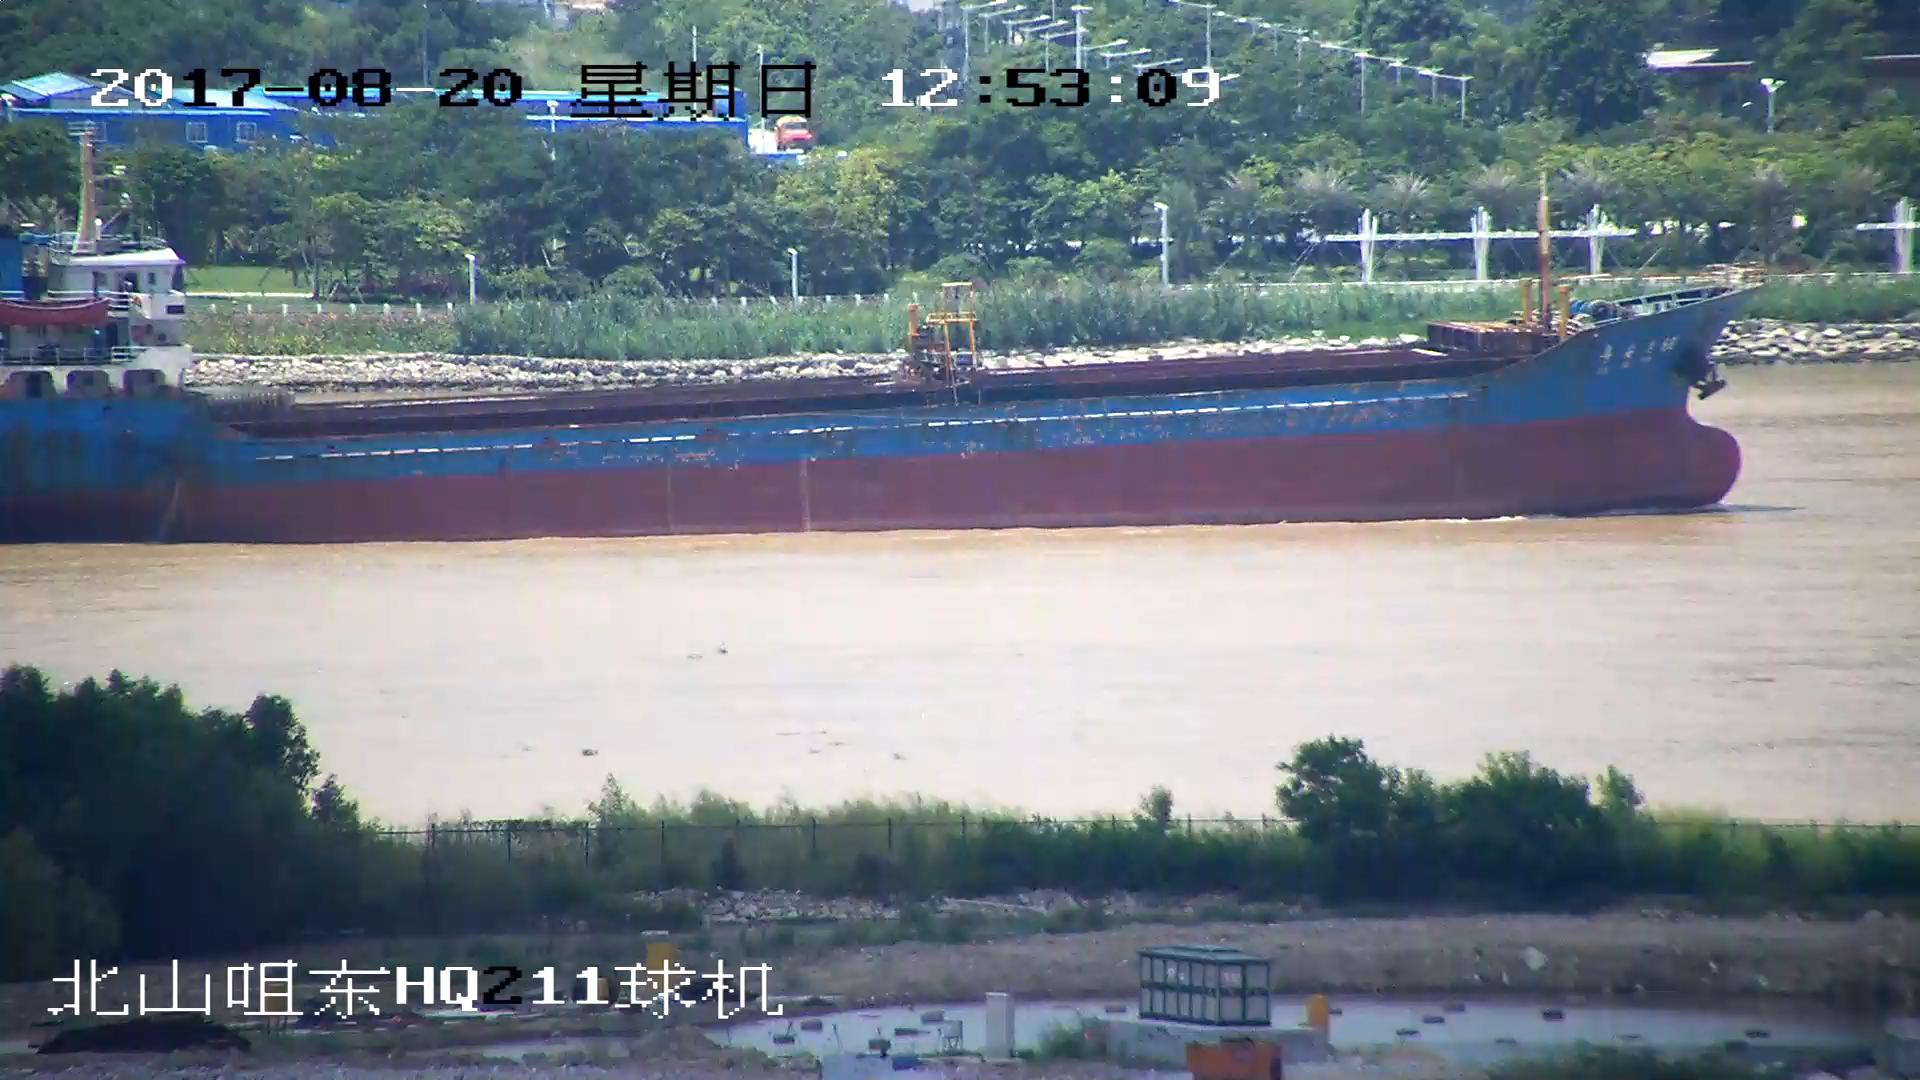general cargo ship: (1, 172, 1745, 547)
